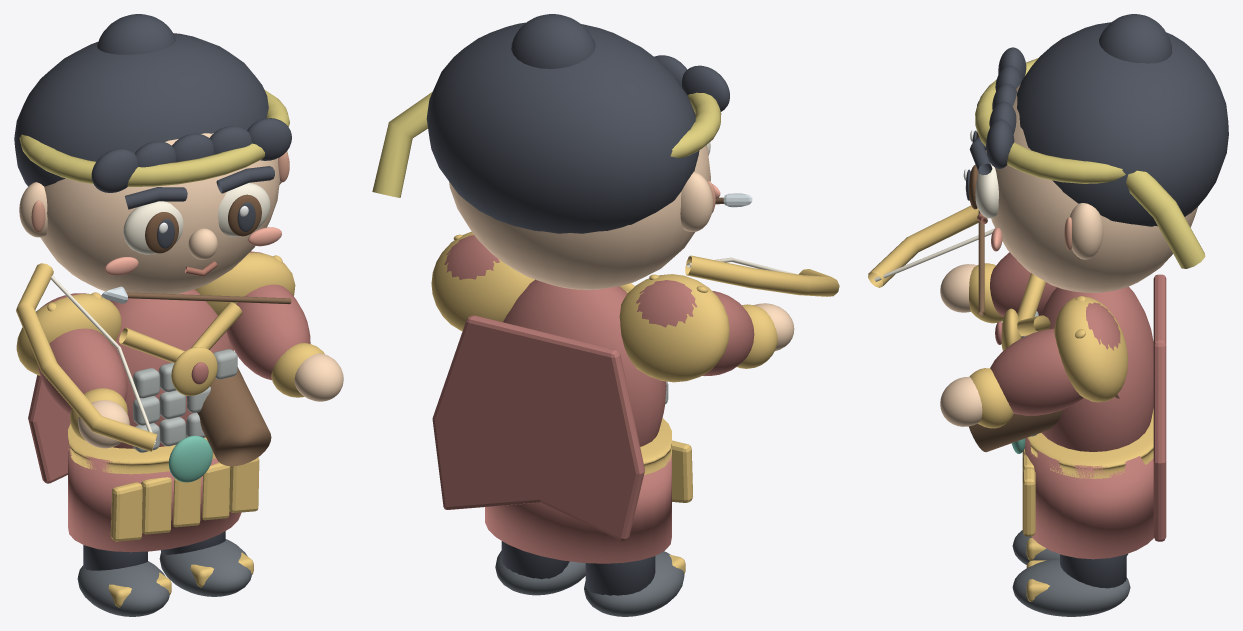
The model's file is bandit_marksman.fbx.
3 views of the same model, side by side, from view 1: azimuth 30°, elevation 25°; view 2: azimuth 150°, elevation 25°; view 3: azimuth 270°, elevation 25° (orthographic). The views are drawn at different scales.
Parts seen in each view (by area): view 1: hair_mass, face, robe_skirt, body, headband, sleeve, quiver, recurve_bow, sleeve.001, boot, boot.001, shoulder_gold.001 (+42 smaller); view 2: hair_mass, cape, face, robe_skirt, body, shoulder_gold.001, shoulder_gold, hair_bun, recurve_bow, headband_tail, boot, leg (+12 smaller); view 3: hair_mass, face, robe_skirt, body, sleeve, shoulder_gold, boot.001, cape, headband, headband_tail, belt, hair_bun (+21 smaller).
Boxes of the visible parts, x1,y1,x2,y2 form: hair_mass: [14, 33, 268, 186]; face: [40, 133, 279, 294]; robe_skirt: [68, 438, 241, 552]; body: [110, 289, 233, 448]; headband: [19, 89, 289, 186]; sleeve: [226, 284, 310, 380]; quiver: [197, 367, 271, 466]; recurve_bow: [16, 263, 157, 451]; sleeve.001: [38, 328, 127, 414]; boot: [77, 561, 169, 616]; boot.001: [159, 539, 251, 596]; shoulder_gold.001: [16, 293, 121, 375]; hair_mass: [426, 22, 699, 233]; cape: [432, 315, 644, 540]; face: [449, 145, 710, 289]; robe_skirt: [485, 452, 671, 563]; body: [503, 279, 666, 446]; shoulder_gold.001: [619, 274, 729, 382]; shoulder_gold: [431, 231, 534, 331]; hair_bun: [511, 14, 595, 68]; recurve_bow: [685, 255, 839, 296]; headband_tail: [372, 92, 432, 197]; boot: [584, 551, 684, 616]; leg: [585, 556, 655, 595]; hair_mass: [1017, 22, 1228, 226]; face: [985, 84, 1197, 292]; robe_skirt: [1024, 438, 1153, 559]; body: [1040, 286, 1153, 451]; sleeve: [990, 328, 1083, 415]; shoulder_gold: [1054, 296, 1128, 402]; boot.001: [1012, 558, 1130, 616]; cape: [1153, 274, 1166, 541]; headband: [975, 58, 1125, 183]; headband_tail: [1126, 170, 1205, 268]; belt: [1027, 409, 1153, 478]; hair_bun: [1099, 14, 1172, 63].
Size of the model in its own units: 1.41 by 2.46 by 1.41.
